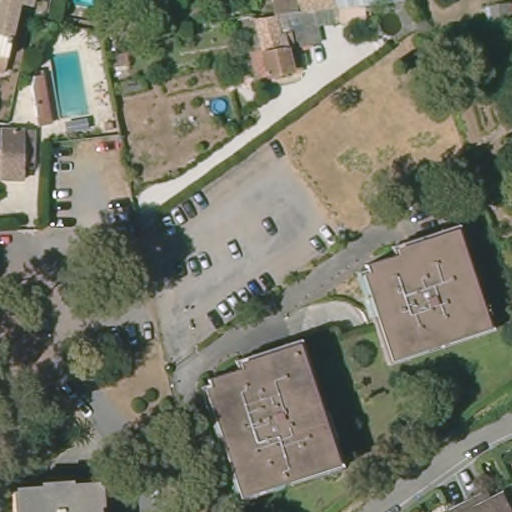pool: (44, 49, 95, 121), (206, 97, 228, 117)
